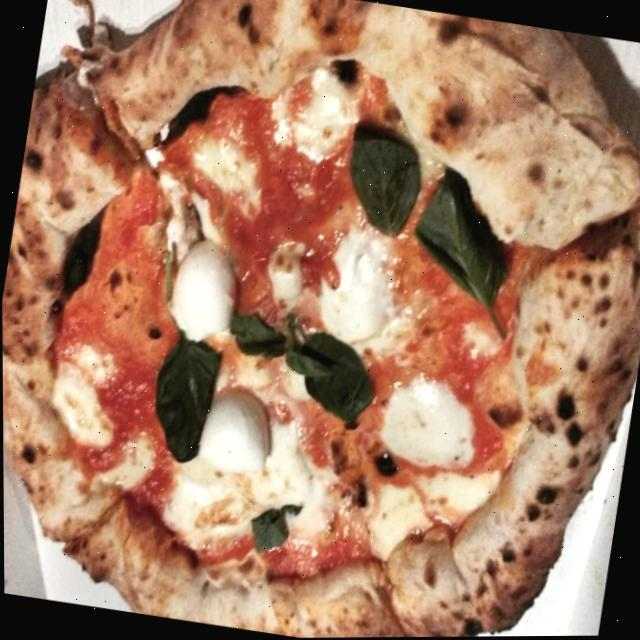basil: (400, 166, 530, 345), (333, 121, 426, 254), (140, 325, 227, 465), (295, 330, 383, 432), (270, 311, 342, 388), (218, 302, 291, 370), (242, 490, 305, 561)
pizza: (0, 0, 640, 640)
